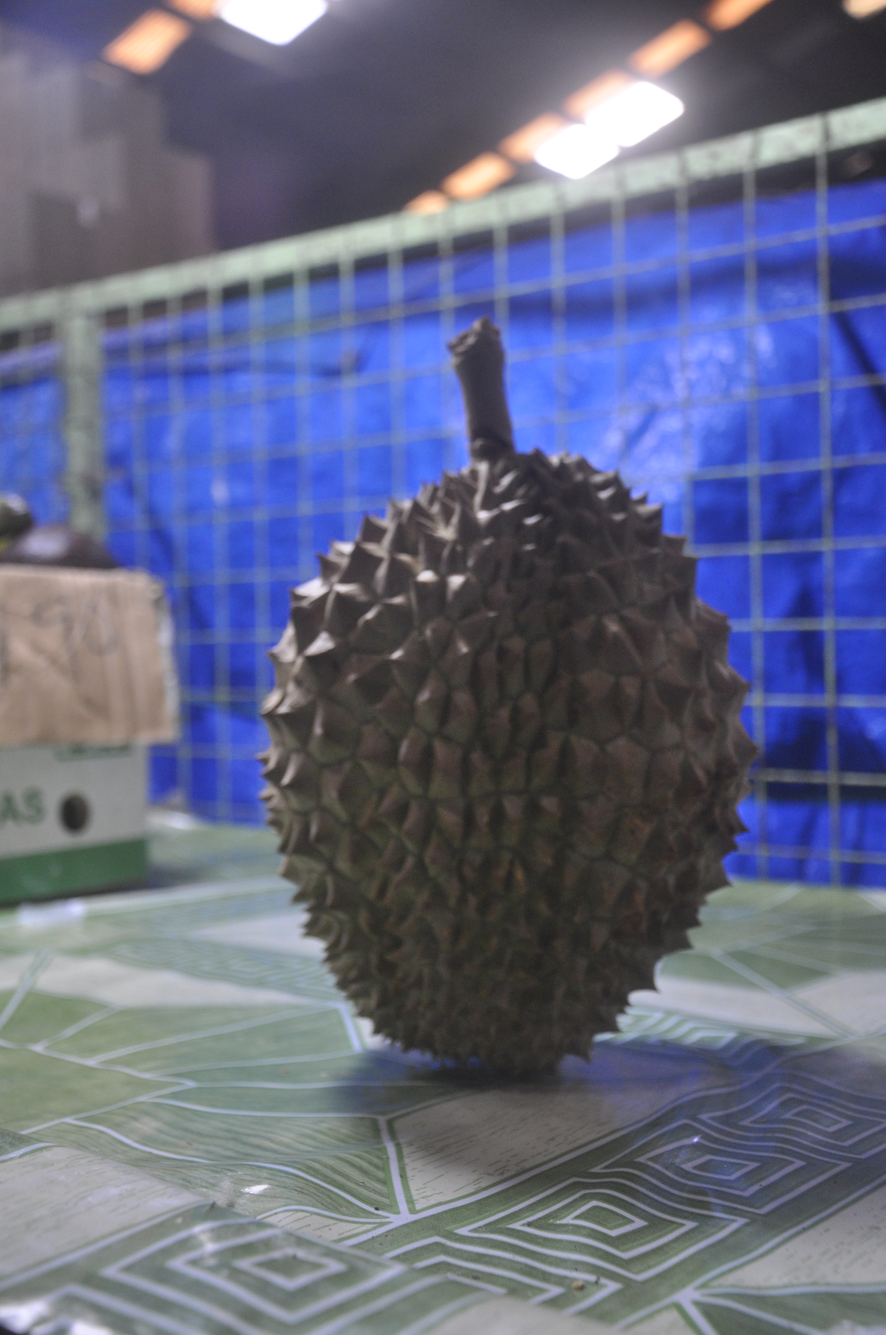mature: (262, 318, 756, 1075)
